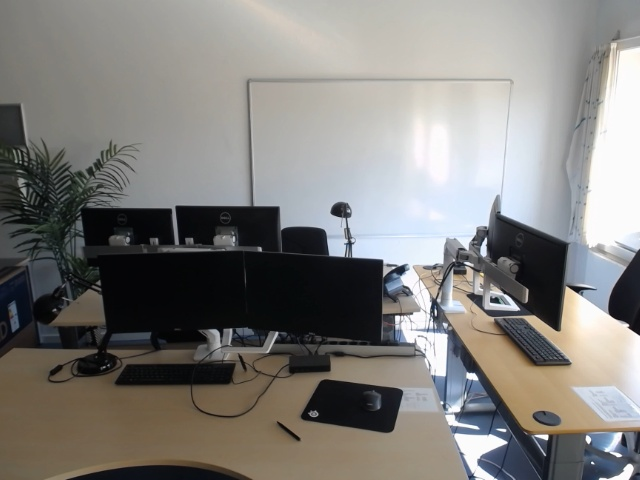robot: (369, 215, 640, 480)
